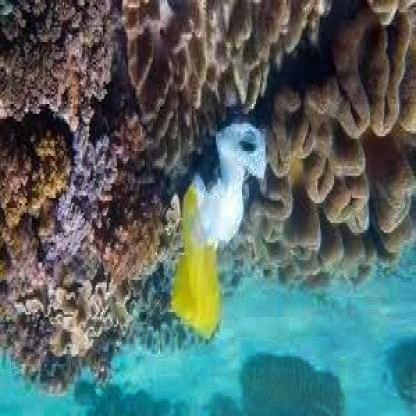pbag: (172, 121, 266, 340)
